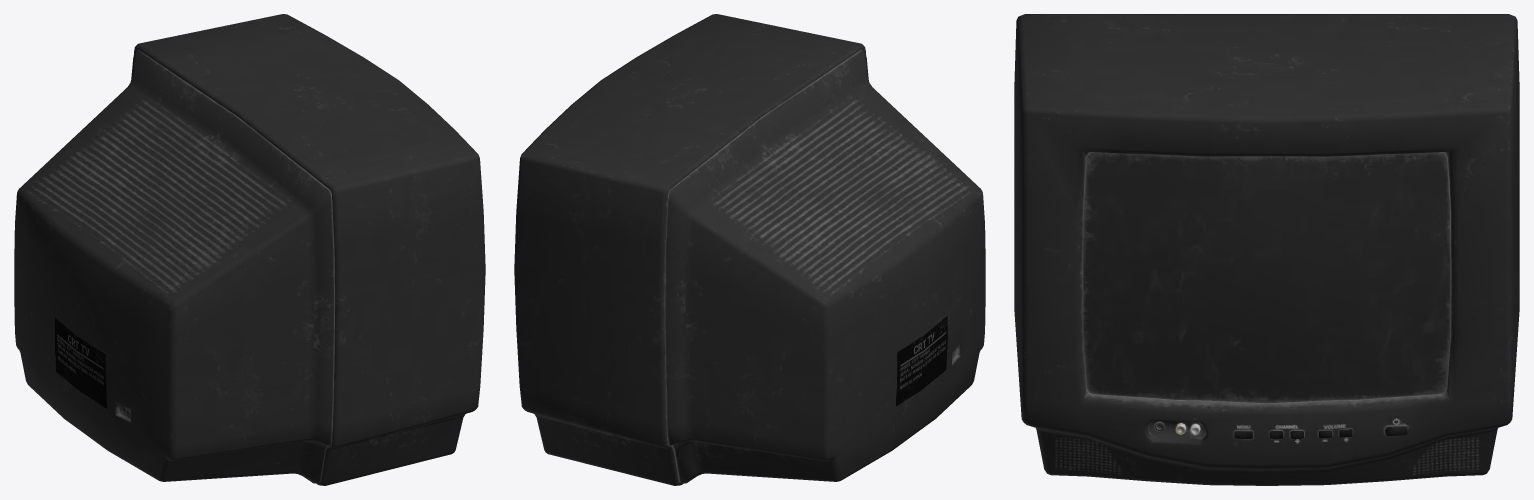
The model's file is crt_tv.glb.
3 renders of one model, left to right at view 1: azimuth 30°, elevation 25°; view 2: azimuth 150°, elevation 25°; view 3: azimuth 270°, elevation 25°, orthographic. The views are drawn at different scales.
Parts seen in each view (by area): view 1: Cube; view 2: Cube; view 3: Cube.
Boxes of the visible parts, x1,y1,x2,y2 form: Cube: [14, 14, 485, 485]; Cube: [514, 14, 985, 485]; Cube: [1014, 14, 1519, 485].
Size of the model in its own units: 0.3689 by 0.3338 by 0.3947.
Materials: 1 (1 with a texture image).
